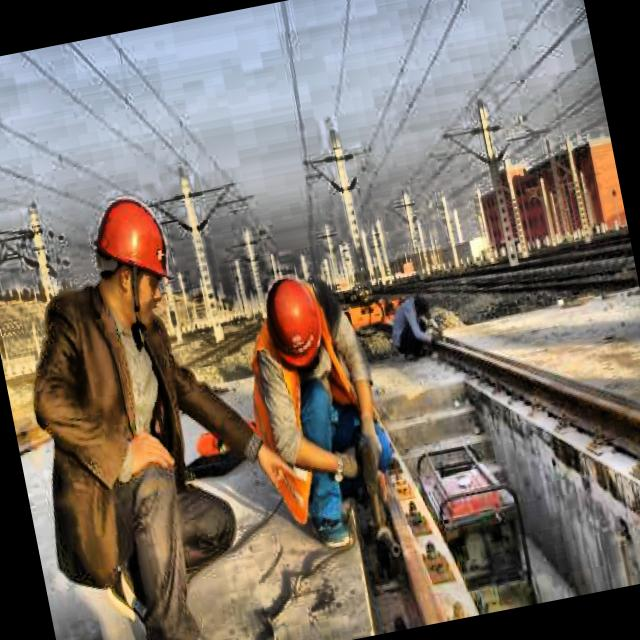helmet: (83, 185, 190, 337), (255, 266, 342, 394)
